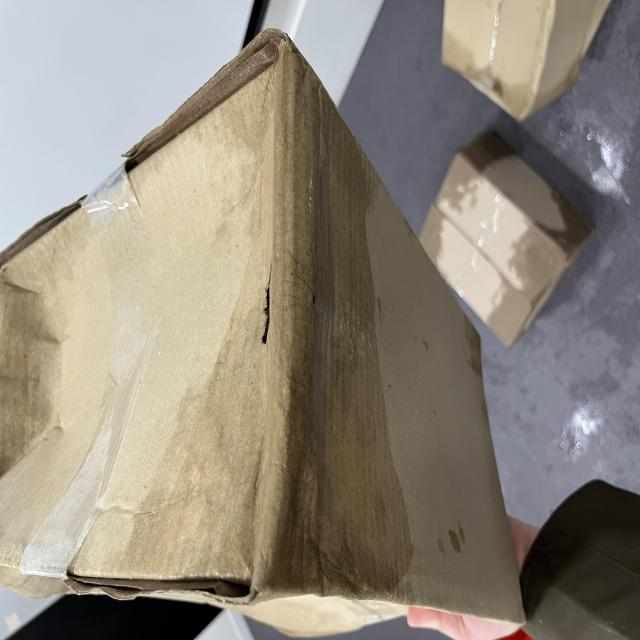wet: (31, 187, 442, 522)
